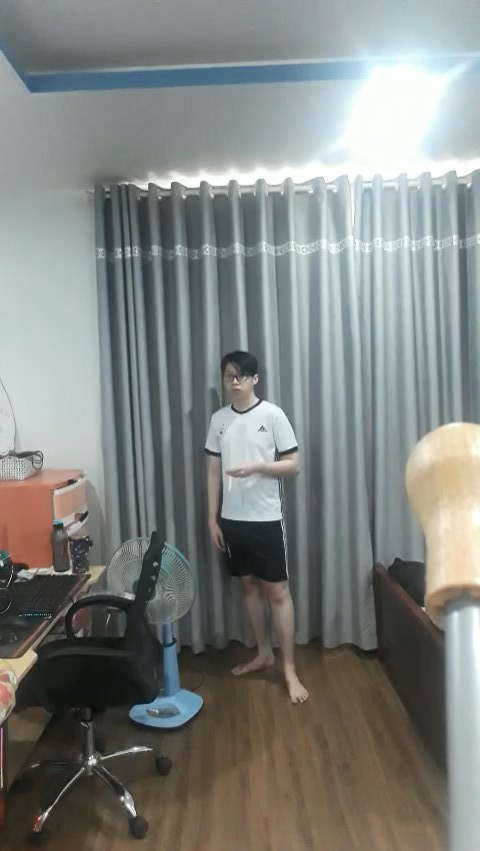cigarette: (227, 475, 233, 492)
person: (201, 340, 318, 709)
